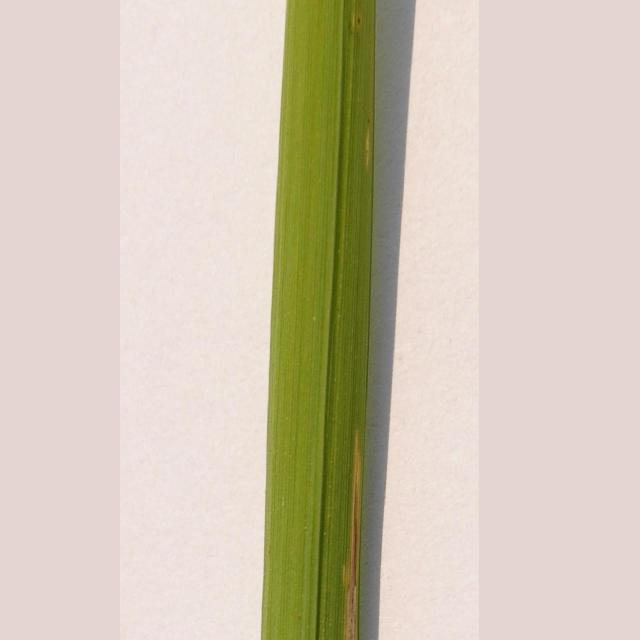leaf blight: (327, 428, 377, 640), (356, 115, 376, 171)
